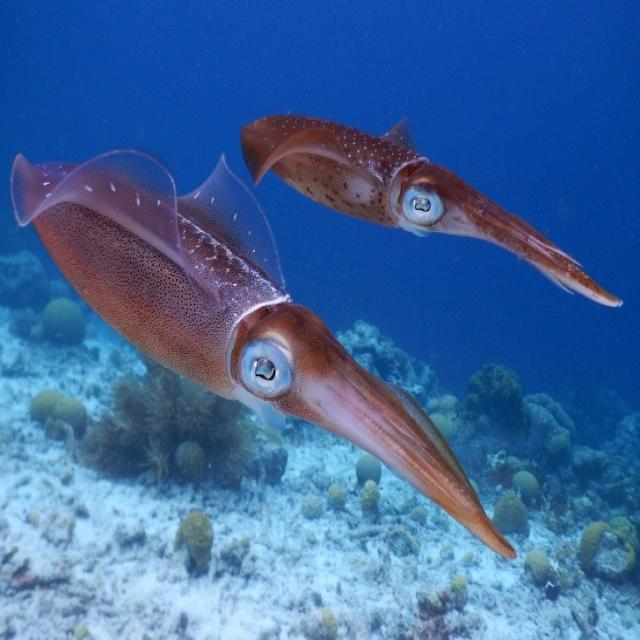SQUID: (0, 123, 524, 565), (241, 86, 623, 317)
